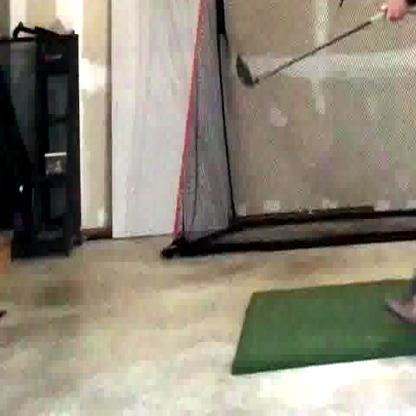GolfBall: (234, 51, 266, 90)
